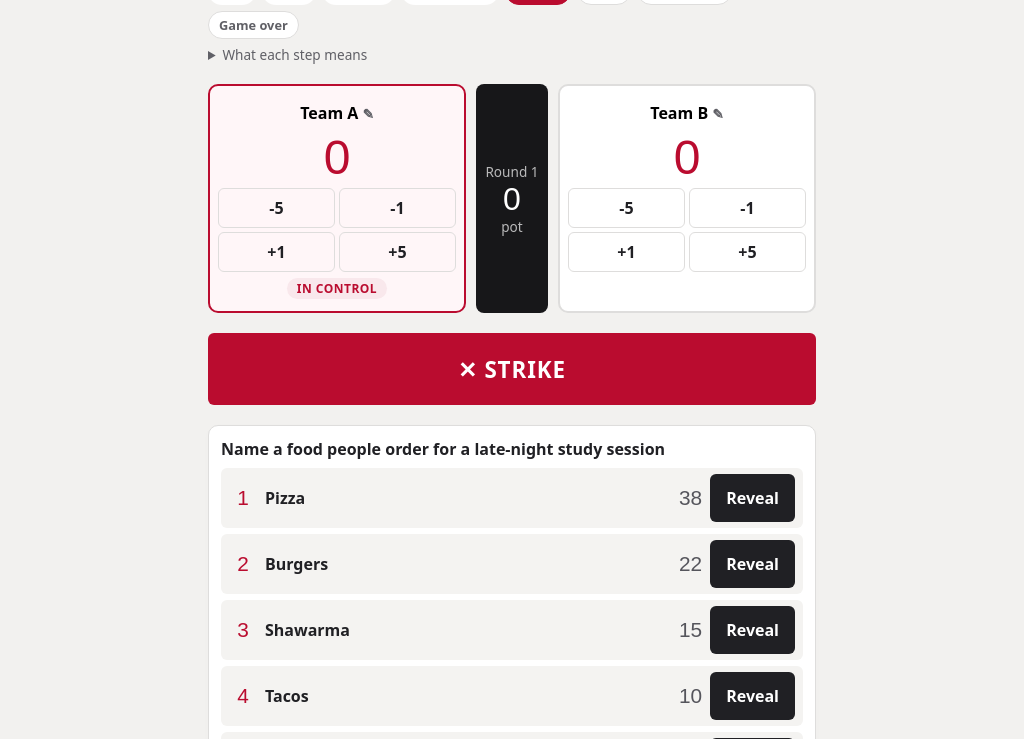
Test: HostPage › strikes and ends a round early through the confirm sheet
(page scrolled)
Step 1. Click the button "✕ STRIKE" → (512, 369), box [208,333,816,405]
(page scrolled)
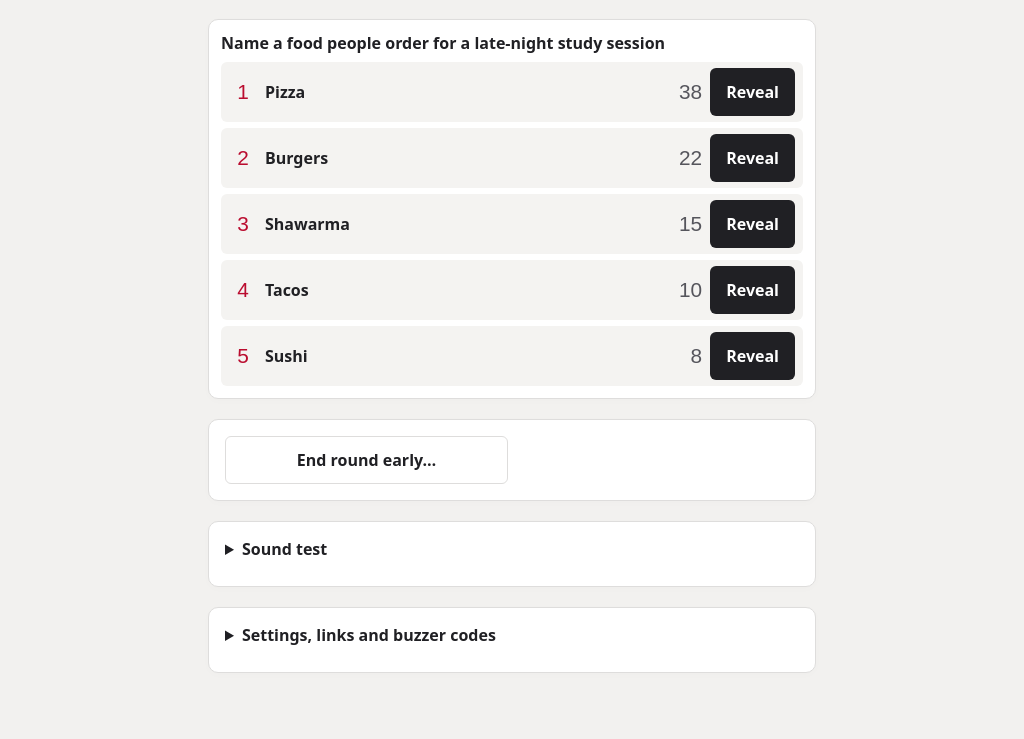
Step 2. Click the button "End round early…" → (366, 460), box [225,436,508,484]
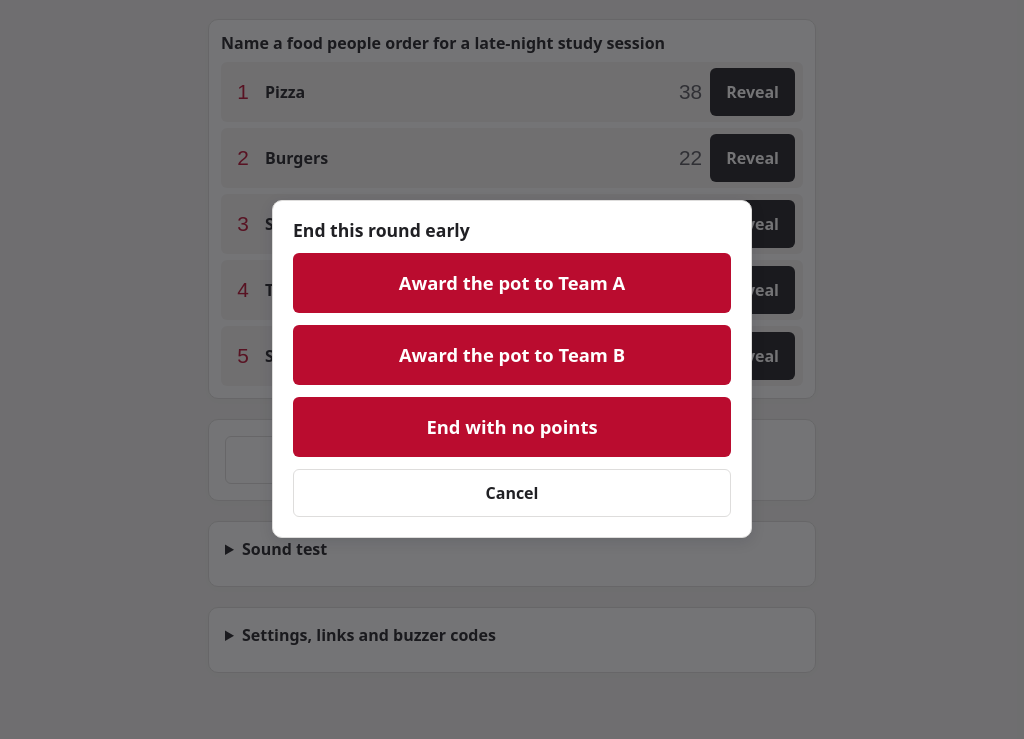
Step 3. Click the button "Cancel" → (512, 493), box [293,469,731,517]
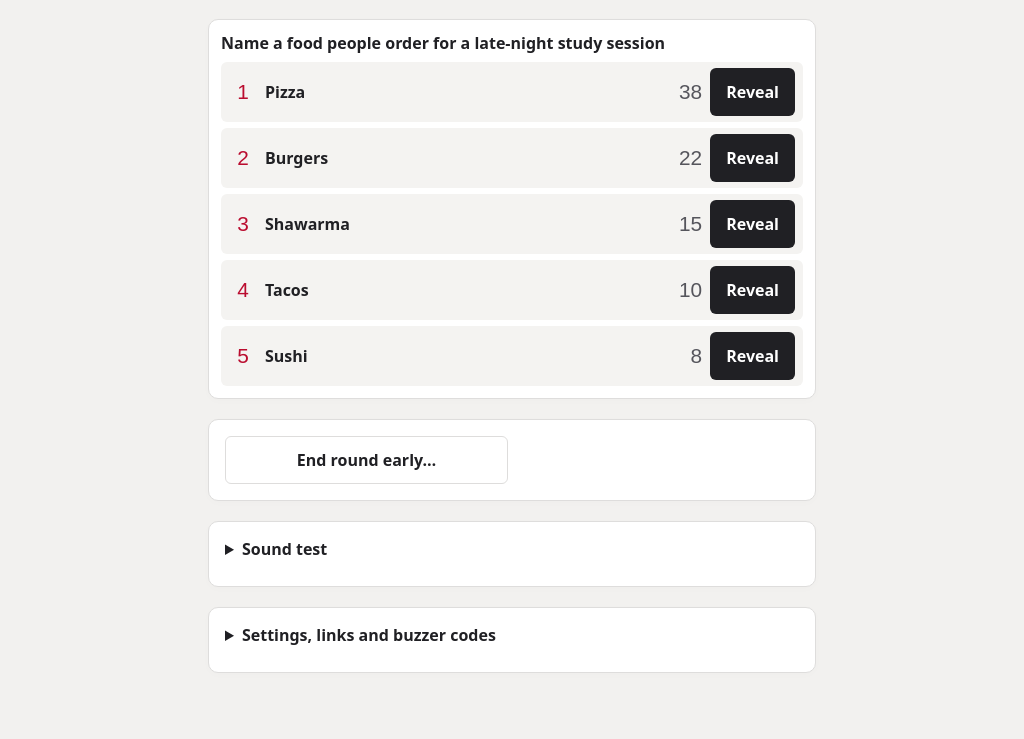
Result: the dialog is gone
Step 4. Click the button "End round early…" → (366, 460), box [225,436,508,484]
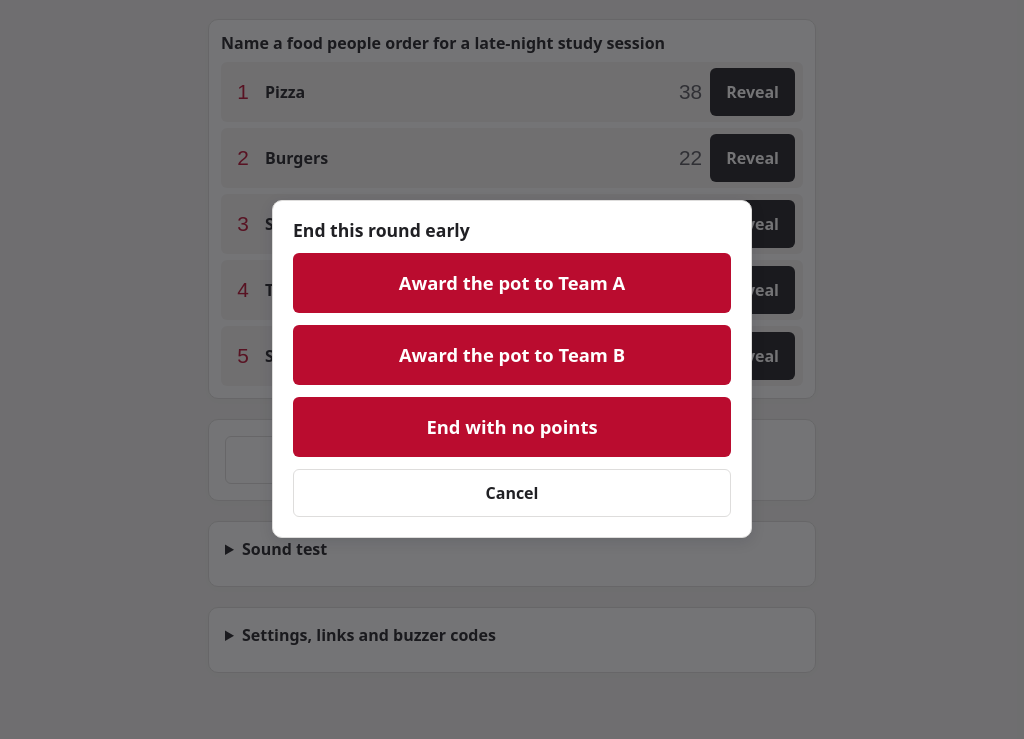
Step 5. Click the button "Award the pot to Team B" → (512, 355), box [293,325,731,385]
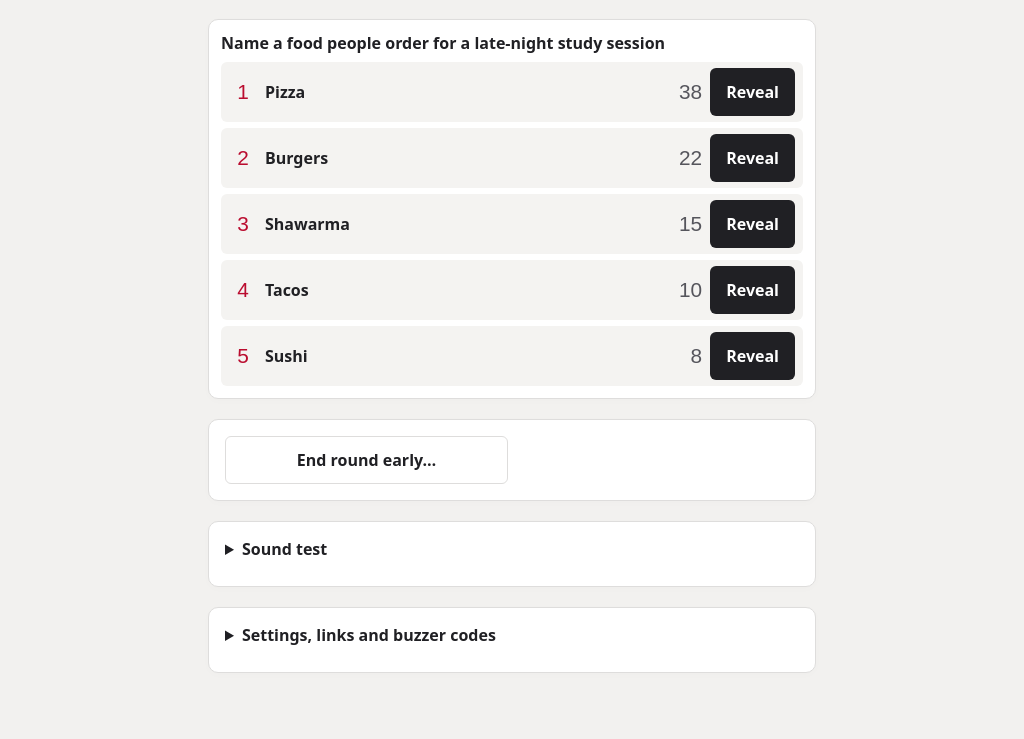
Result: the dialog is gone
